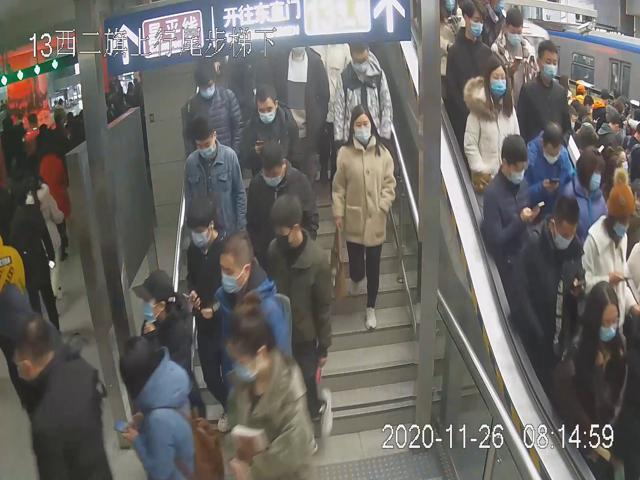person: (264, 190, 335, 450), (207, 229, 293, 414), (326, 104, 395, 331), (182, 201, 243, 433), (511, 196, 579, 351), (183, 116, 247, 264), (461, 53, 522, 207), (245, 139, 319, 260), (332, 40, 395, 160), (480, 133, 535, 264), (178, 58, 241, 164), (519, 38, 570, 161), (241, 83, 303, 176)
